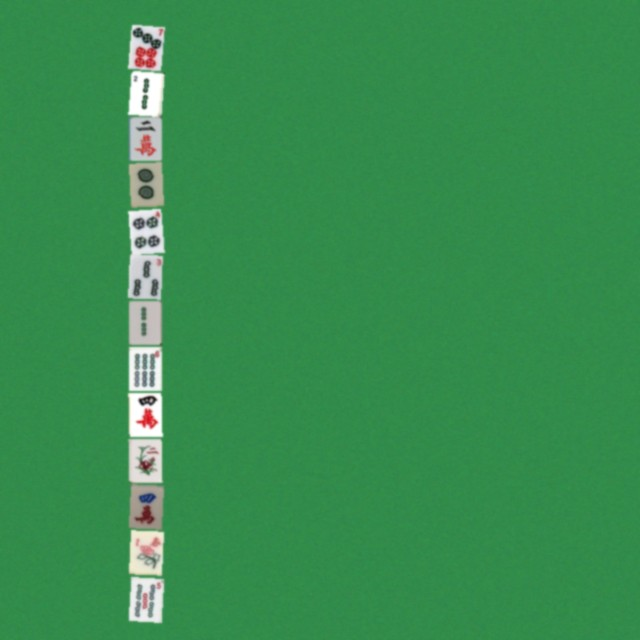tile: (128, 24, 161, 68), (128, 70, 161, 114), (128, 116, 161, 160), (128, 162, 161, 206), (128, 208, 161, 252), (128, 254, 161, 298), (128, 300, 161, 344), (128, 346, 161, 390), (128, 392, 161, 436), (128, 438, 161, 482), (128, 484, 161, 528), (128, 530, 161, 574), (128, 576, 161, 620)
